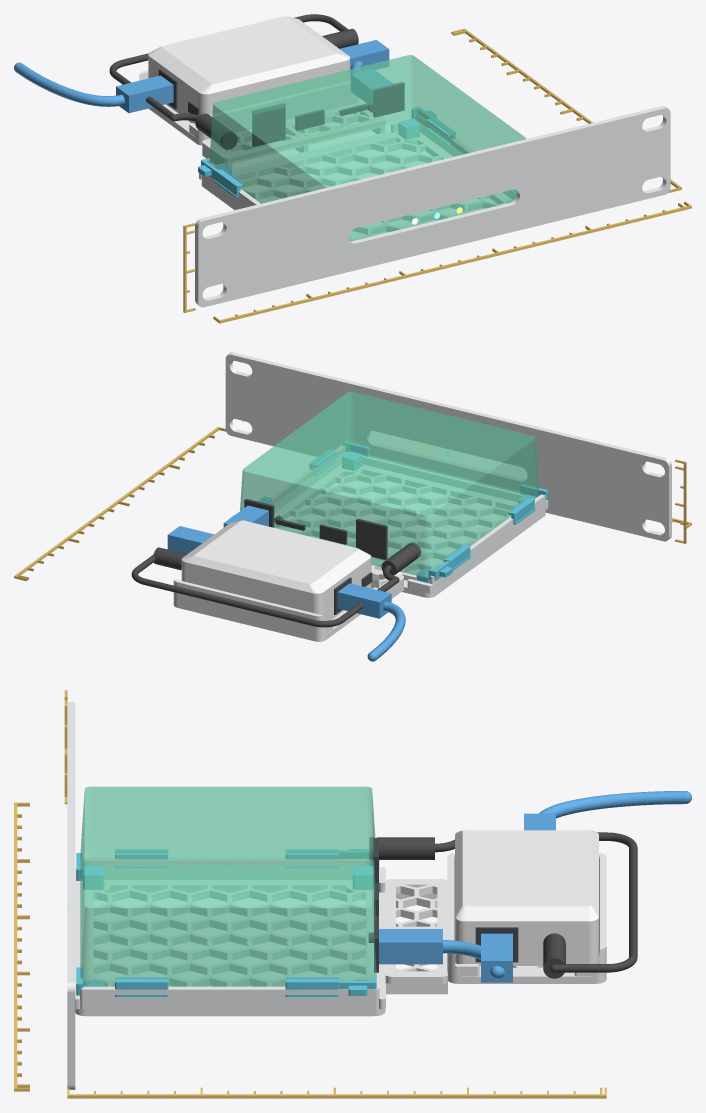
The model's file is home-assistant-green-rack-stacked_center-no_shutter.glb.
3 views of the same model, one above another, from view 1: azimuth 30°, elevation 25°; view 2: azimuth 150°, elevation 25°; view 3: azimuth 270°, elevation 25° (orthographic). The views are drawn at different scales.
Visible parts, largest first — view 1: White rack mount, Home Assistant Green, TP-Link TL-PD30G-M2, Green tray — standard, 10 mm dimension rulers, Home Assistant Green connector faces, Incoming PoE cable, TP-Link cradle side walls, DC cable, Internal Ethernet cable, Green retention — segmented rails + rear latch, Home Assistant logo (+1 smaller); view 2: Home Assistant Green, White rack mount, Green tray — standard, TP-Link TL-PD30G-M2, DC cable, TP-Link cradle side walls, Green retention — segmented rails + rear latch, Home Assistant Green connector faces, Incoming PoE cable, 10 mm dimension rulers, Internal Ethernet cable, TP-Link cradle floor; view 3: Home Assistant Green, Green tray — standard, TP-Link TL-PD30G-M2, White rack mount, Green retention — segmented rails + rear latch, 10 mm dimension rulers, Internal Ethernet cable, DC cable, Incoming PoE cable, TP-Link cradle side walls, TP-Link cradle floor, Home Assistant Green connector faces.
Boxes of the visible parts, x1,y1,x2,y2 form: White rack mount: (195, 102, 670, 307); Home Assistant Green: (209, 55, 525, 241); TP-Link TL-PD30G-M2: (148, 16, 350, 124); Green tray — standard: (199, 115, 515, 240); 10 mm dimension rulers: (183, 28, 691, 323); Home Assistant Green connector faces: (220, 82, 404, 149); Incoming PoE cable: (14, 62, 173, 113); TP-Link cradle side walls: (139, 70, 358, 139); DC cable: (109, 14, 358, 145); Internal Ethernet cable: (340, 40, 392, 102); Green retention — segmented rails + rear latch: (198, 107, 516, 202); Home Assistant logo: (297, 216, 333, 260); Home Assistant Green: (240, 391, 539, 577); White rack mount: (225, 352, 671, 598); Green tray — standard: (268, 445, 548, 597); TP-Link TL-PD30G-M2: (181, 520, 371, 620); DC cable: (131, 544, 418, 627); TP-Link cradle side walls: (173, 571, 379, 636); Green retention — segmented rails + rear latch: (228, 441, 548, 583); Home Assistant Green connector faces: (244, 499, 421, 559); Incoming PoE cable: (337, 583, 405, 661); 10 mm dimension rulers: (14, 421, 691, 581); Internal Ethernet cable: (167, 505, 268, 554); TP-Link cradle floor: (173, 600, 360, 641); Home Assistant Green: (80, 786, 376, 986); Green tray — standard: (75, 858, 385, 1016); TP-Link TL-PD30G-M2: (455, 830, 598, 965); White rack mount: (67, 702, 447, 1089); Green retention — segmented rails + rear latch: (76, 849, 376, 996); 10 mm dimension rulers: (14, 690, 606, 1098); Internal Ethernet cable: (379, 929, 512, 982); DC cable: (376, 832, 637, 978); Incoming PoE cable: (524, 791, 691, 830); TP-Link cradle side walls: (447, 853, 606, 976); TP-Link cradle floor: (448, 966, 606, 983); Home Assistant Green connector faces: (368, 837, 378, 972).
Size of what is drawn, in the model's own units: 268 by 44.45 by 254.
